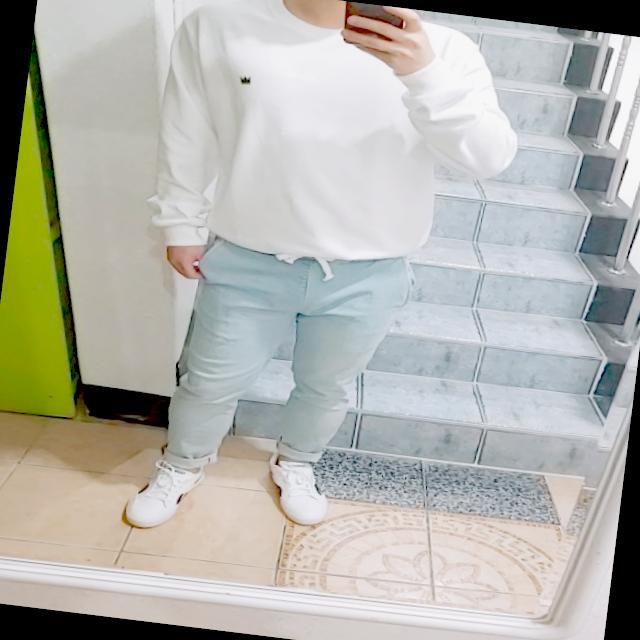denimpants: (160, 233, 413, 498)
mtm: (137, 0, 531, 286)
